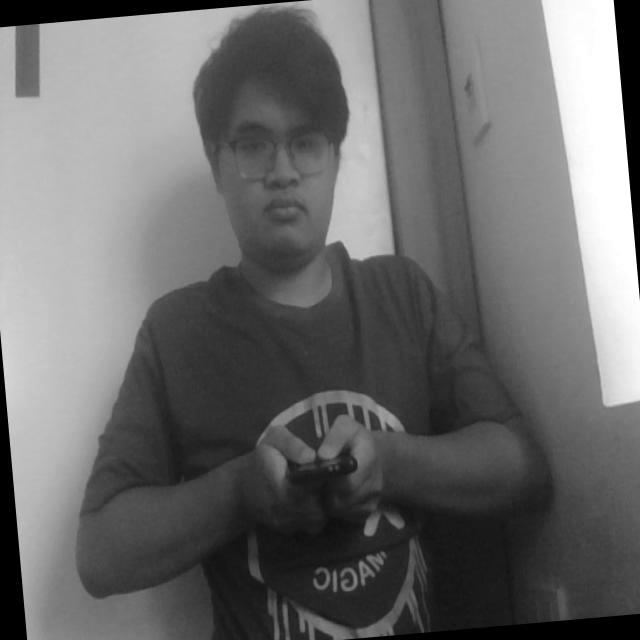phone: (275, 411, 363, 519)
